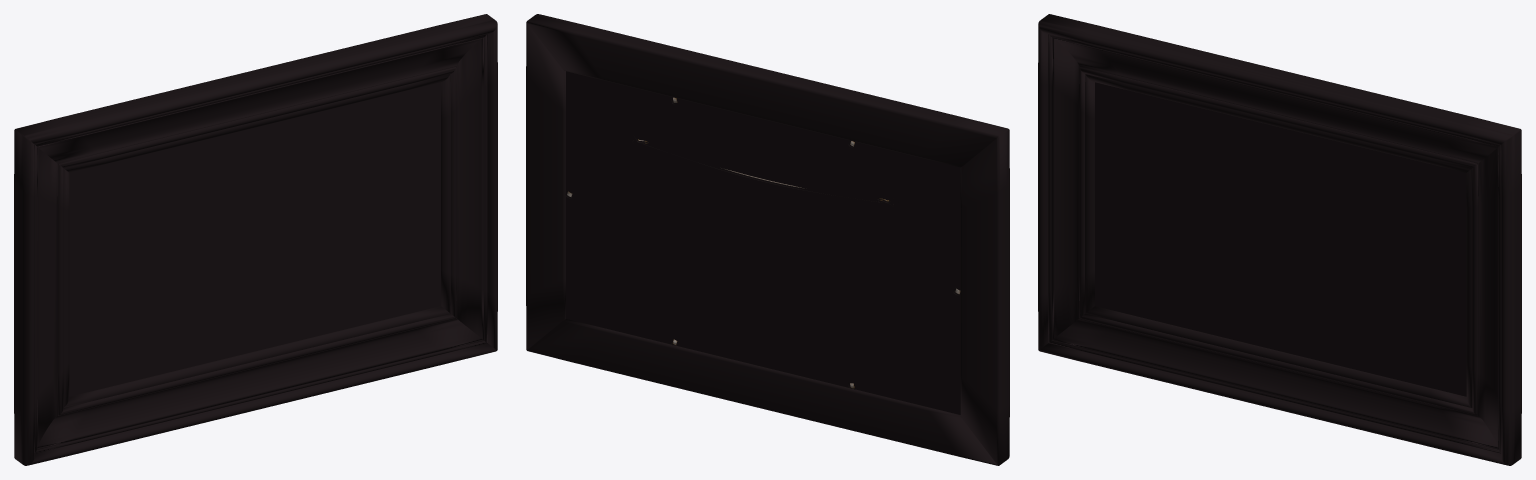
The model's file is SM_Int_Frame.fbx.
3 renders of one model, left to right at view 1: azimuth 30°, elevation 25°; view 2: azimuth 150°, elevation 25°; view 3: azimuth 330°, elevation 25°, orthographic.
Visible parts, largest first — view 1: SM_Int_Frame; view 2: SM_Int_Frame; view 3: SM_Int_Frame.
Boxes of the visible parts, x1=… form: SM_Int_Frame: x1=14, y1=14, x2=497, y2=465; SM_Int_Frame: x1=526, y1=14, x2=1009, y2=465; SM_Int_Frame: x1=1038, y1=14, x2=1521, y2=465.
Size of the model in its own units: 0.604 by 0.403 by 0.0304.
